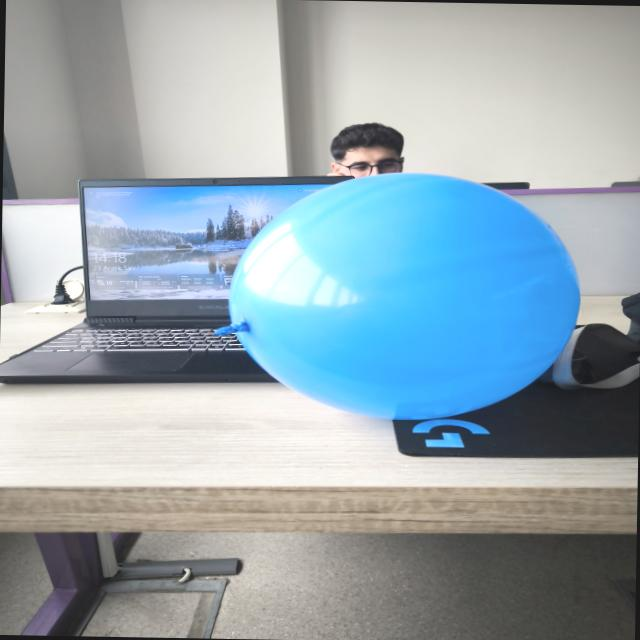balloon: (229, 173, 579, 419)
